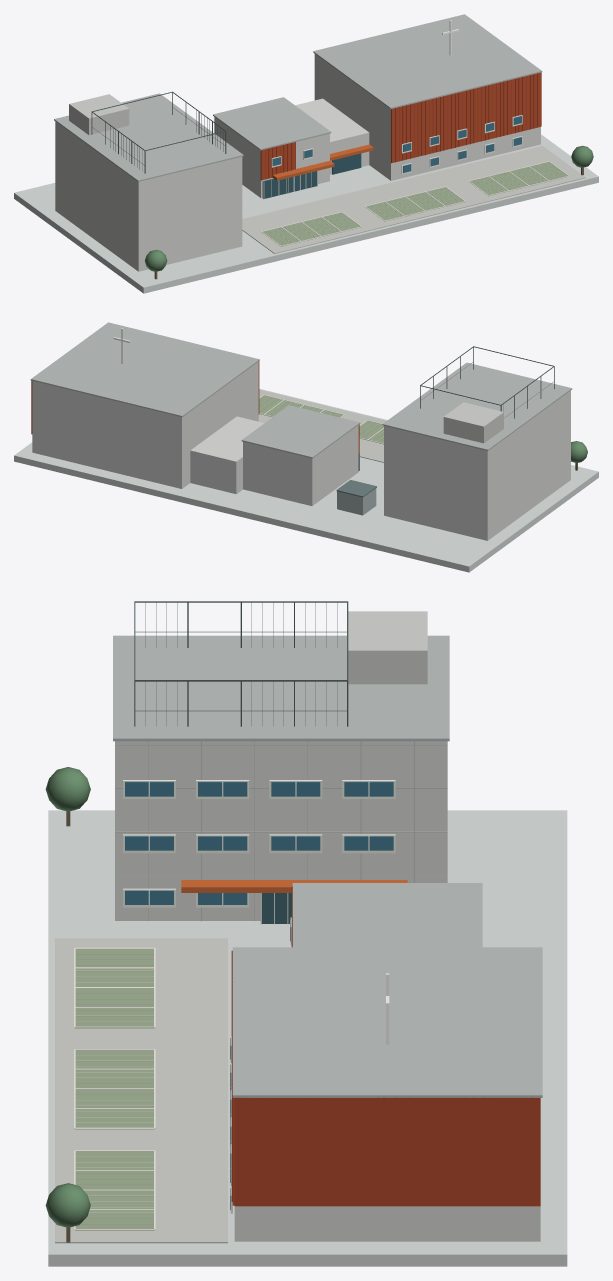
File: church-campus-before-20260930.glb
3 renders of one model, top to bottom at view 1: azimuth 30°, elevation 25°; view 2: azimuth 150°, elevation 25°; view 3: azimuth 270°, elevation 25°, orthographic. The views are drawn at different scales.
Parts seen in each view (by area): view 1: love-part-1, site-base, faith-part-2, parking-part-1, faith-part-3, love-part-2, faith-part-1, hope-part-2, hope-part-1, faith-part-67, love-part-49, parking-part-23 (+7 smaller); view 2: love-part-1, site-base, faith-part-1, faith-part-2, love-part-2, hope-part-1, hope-part-2, faith-part-67, love-part-49, parking-part-1, parking-part-23, container-wall-back (+2 smaller); view 3: site-base, faith-part-2, love-part-1, faith-part-44, parking-part-1, love-part-2, hope-part-2, faith-part-1, parking-part-2, parking-part-23, love-part-49, parking-part-44 (+3 smaller).
Boxes of the visible parts, x1=… form: love-part-1: x1=55, y1=121, x2=242, y2=271; site-base: x1=14, y1=134, x2=598, y2=293; faith-part-2: x1=313, y1=14, x2=542, y2=108; parking-part-1: x1=242, y1=146, x2=585, y2=253; faith-part-3: x1=391, y1=72, x2=541, y2=162; love-part-2: x1=54, y1=93, x2=243, y2=181; faith-part-1: x1=314, y1=54, x2=540, y2=180; hope-part-2: x1=213, y1=97, x2=331, y2=150; hope-part-1: x1=214, y1=117, x2=329, y2=197; faith-part-67: x1=295, y1=98, x2=369, y2=174; love-part-49: x1=69, y1=94, x2=129, y2=135; parking-part-23: x1=366, y1=187, x2=465, y2=221; love-part-1: x1=384, y1=390, x2=570, y2=540; site-base: x1=14, y1=389, x2=598, y2=572; faith-part-1: x1=32, y1=362, x2=258, y2=488; faith-part-2: x1=30, y1=322, x2=259, y2=417; love-part-2: x1=382, y1=362, x2=572, y2=450; hope-part-1: x1=243, y1=425, x2=358, y2=505; hope-part-2: x1=241, y1=405, x2=360, y2=458; faith-part-67: x1=190, y1=416, x2=264, y2=494; love-part-49: x1=443, y1=402, x2=503, y2=443; parking-part-1: x1=258, y1=389, x2=386, y2=462; parking-part-23: x1=259, y1=395, x2=343, y2=417; container-wall-back: x1=337, y1=491, x2=362, y2=515; site-base: x1=48, y1=810, x2=567, y2=1266; faith-part-2: x1=232, y1=947, x2=542, y2=1097; love-part-1: x1=115, y1=741, x2=447, y2=920; faith-part-44: x1=234, y1=1097, x2=540, y2=1206; parking-part-1: x1=55, y1=938, x2=227, y2=1243; love-part-2: x1=113, y1=635, x2=449, y2=741; hope-part-2: x1=292, y1=883, x2=482, y2=947; faith-part-1: x1=234, y1=1206, x2=540, y2=1241; parking-part-2: x1=75, y1=949, x2=154, y2=1028; parking-part-23: x1=75, y1=1050, x2=154, y2=1129; love-part-49: x1=348, y1=611, x2=427, y2=684; parking-part-44: x1=75, y1=1151, x2=154, y2=1230.
Size of the model in its own units: 79 by 20.2 by 39.2.
